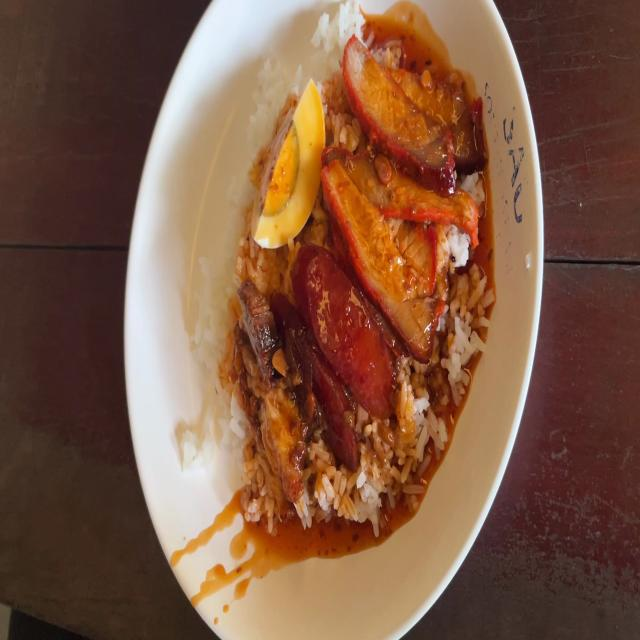red_pork_and_crispy_pork: (263, 79, 333, 243)
stir_fried_basil: (296, 247, 396, 453)
